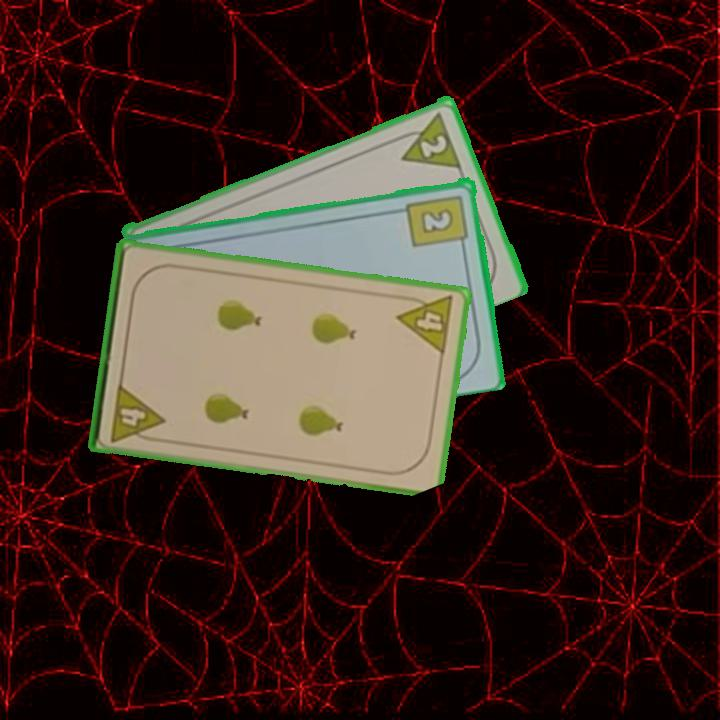2b: (404, 191, 471, 252)
2p: (390, 108, 464, 171)
4p: (394, 291, 457, 358), (106, 379, 167, 445)
